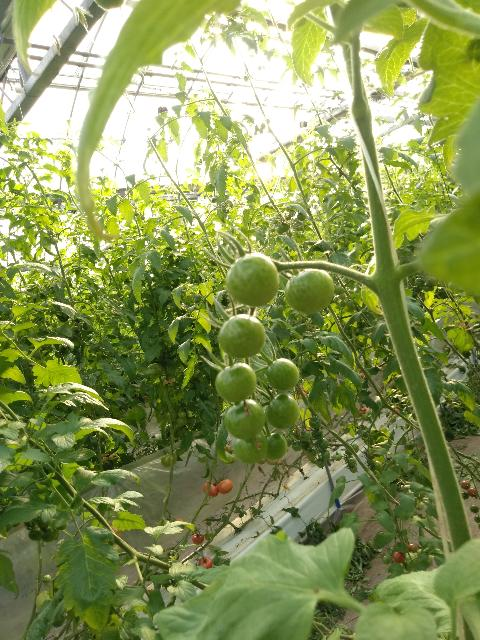l_fully_ripened: (203, 482, 218, 498), (198, 557, 212, 569), (192, 533, 205, 545), (393, 551, 404, 563)
l_green: (226, 253, 279, 307), (284, 268, 334, 314), (219, 314, 266, 358), (216, 363, 257, 403), (225, 399, 265, 440), (266, 394, 299, 429), (234, 433, 268, 465), (268, 358, 299, 390), (265, 433, 287, 461), (160, 451, 177, 467), (309, 416, 321, 429), (311, 428, 323, 439), (317, 437, 328, 449), (293, 429, 304, 440), (370, 460, 382, 470), (299, 431, 310, 441), (292, 441, 302, 451), (321, 450, 331, 459), (316, 459, 325, 468), (382, 555, 391, 564), (333, 453, 342, 461), (308, 449, 316, 457), (349, 458, 356, 467)
l_half_ripened: (217, 479, 233, 494), (409, 543, 418, 553)
